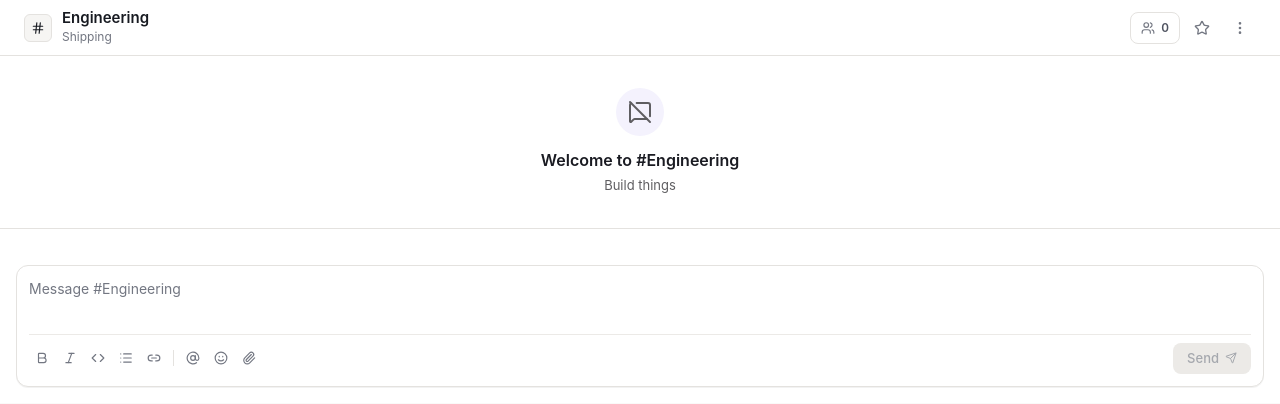
Scenario: ChannelView › shows edit/delete only for owners/creators via the actions menu
This screenshot has width=1280, height=404.
Click the button named "channel actions menu".
click(1240, 28)  # box [1224,12,1256,44]
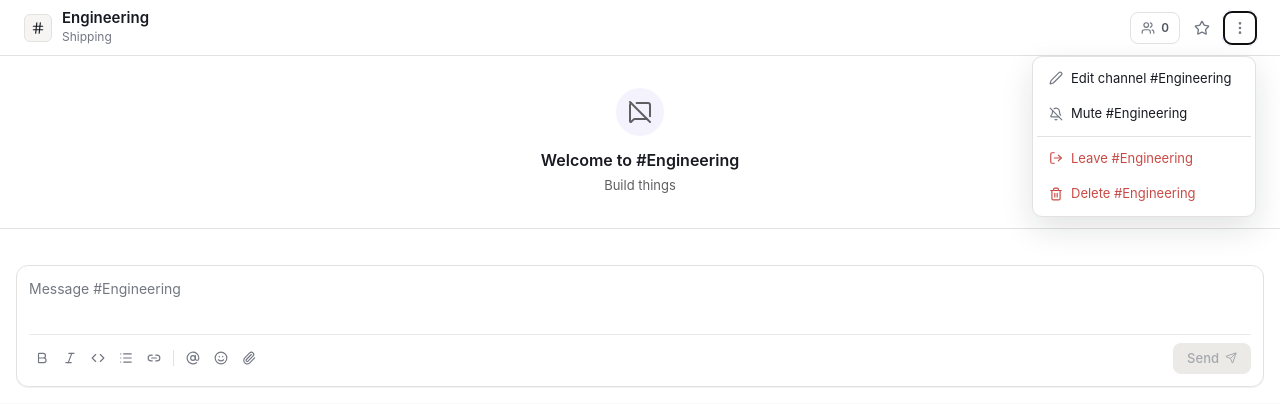
Expected: the menu item "Edit channel #Engineering" is shown, [1037,60,1251,96]
Expected: the menu item "Delete #Engineering" is shown, [1037,176,1251,212]
Expected: the menu item "Leave #Engineering" is shown, [1037,140,1251,176]
